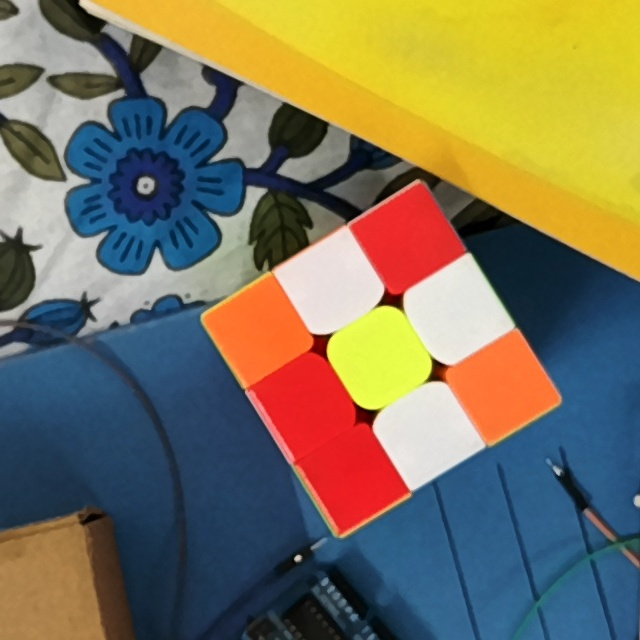tile: (349, 327, 413, 387), (380, 209, 440, 268), (427, 282, 488, 339), (476, 354, 534, 413), (229, 301, 286, 360), (397, 403, 456, 460), (305, 255, 364, 311), (322, 448, 378, 507), (275, 374, 334, 429)
